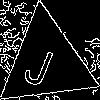J: (21, 37, 59, 90)
